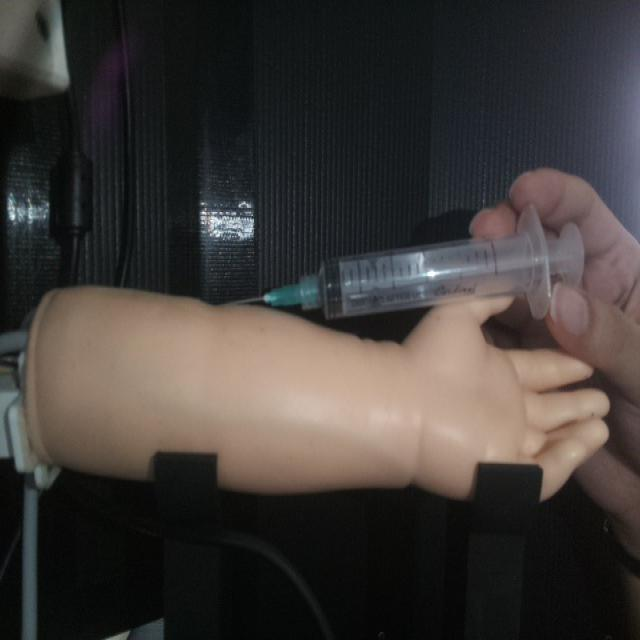Outside: (231, 201, 586, 323)
